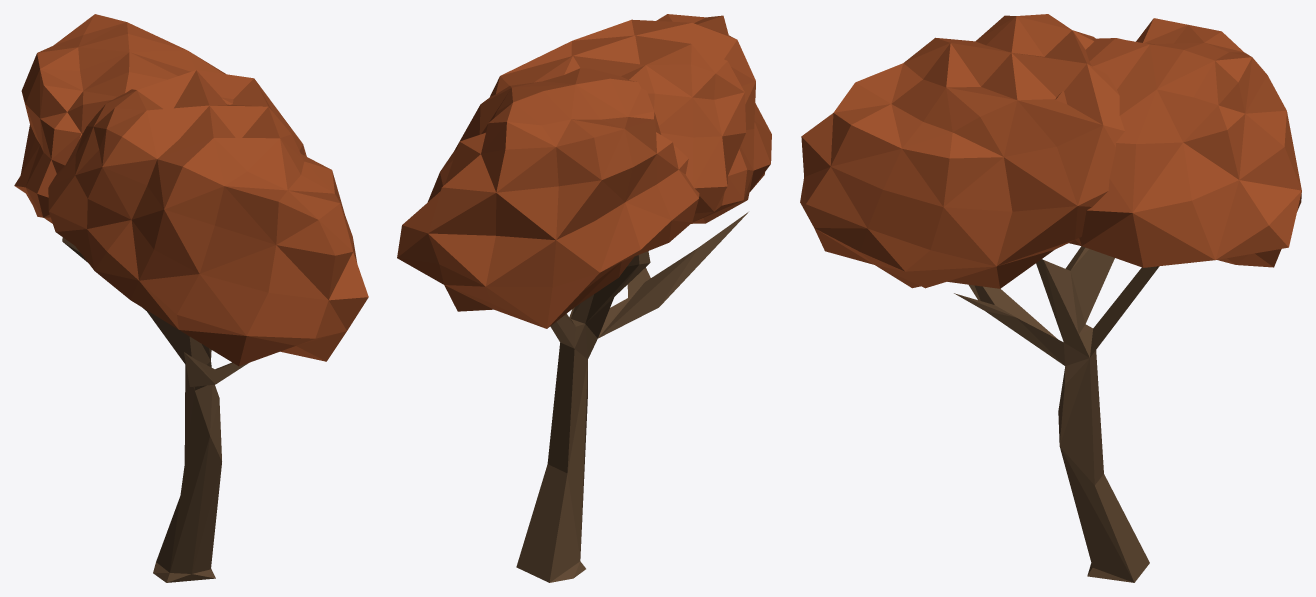
The model's file is tree_autumn_3.glb.
3 renders of one model, left to right at view 1: azimuth 30°, elevation 25°; view 2: azimuth 150°, elevation 25°; view 3: azimuth 270°, elevation 25°, orthographic. The views are drawn at different scales.
Parts seen in each view (by area): view 1: lod0; view 2: lod0; view 3: lod0.
Boxes of the visible parts, x1,y1,x2,y2 form: lod0: (14,14,368,582); lod0: (397,14,771,582); lod0: (800,14,1301,582).
Size of what is drawn, in the model's own units: 3.47 by 6.78 by 6.05.
